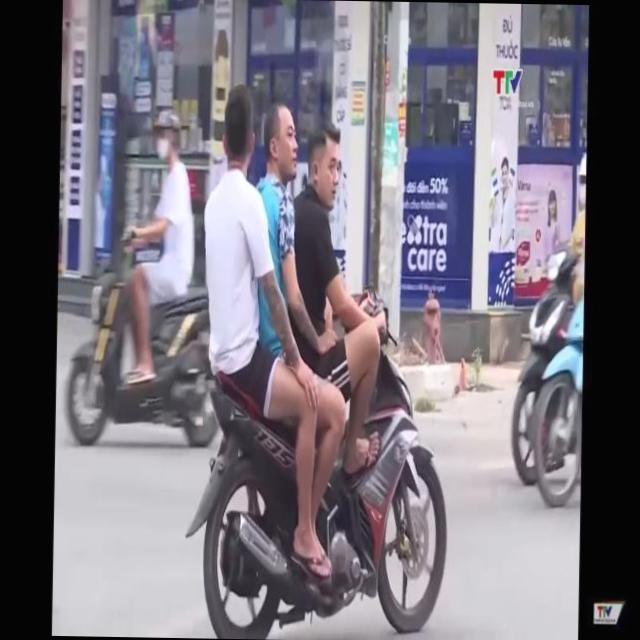motorcycle: (186, 293, 456, 640)
person: (240, 105, 348, 564), (194, 80, 277, 463), (282, 115, 371, 465)
rider_region: (182, 79, 460, 640)
